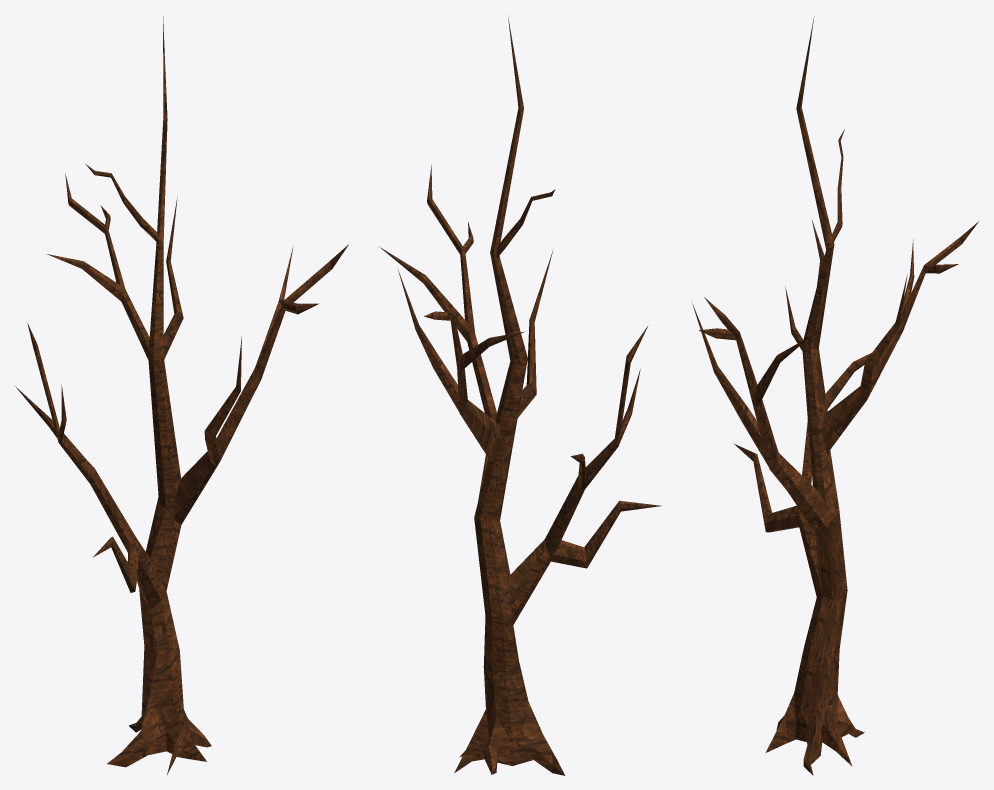
The model's file is dead_tree_HD.obj.
3 views of the same model, side by side, from view 1: azimuth 30°, elevation 25°; view 2: azimuth 150°, elevation 25°; view 3: azimuth 270°, elevation 25° (orthographic). The views are drawn at different scales.
Visible parts, largest first — view 1: tree; view 2: tree; view 3: tree.
Part boxes in pixels (x1,y1,x2,y2): tree: (14, 16, 348, 774); tree: (379, 16, 661, 775); tree: (692, 16, 978, 775).
Size of the model in its own units: 1.57 by 4.17 by 1.48.
